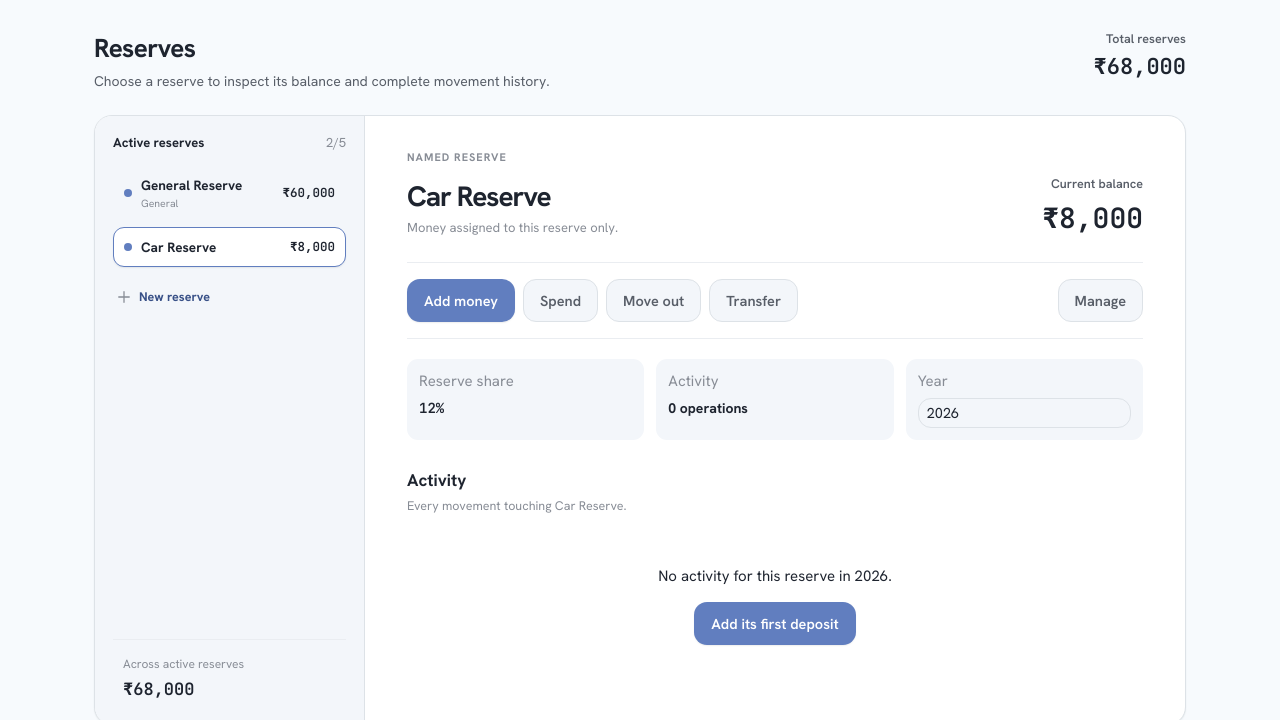
Test case: Reserves page › opens focused operation dialogs prefilled from the selected reserve
Step 1. Click the button "Add money" → (461, 301), box [407,279,515,322]
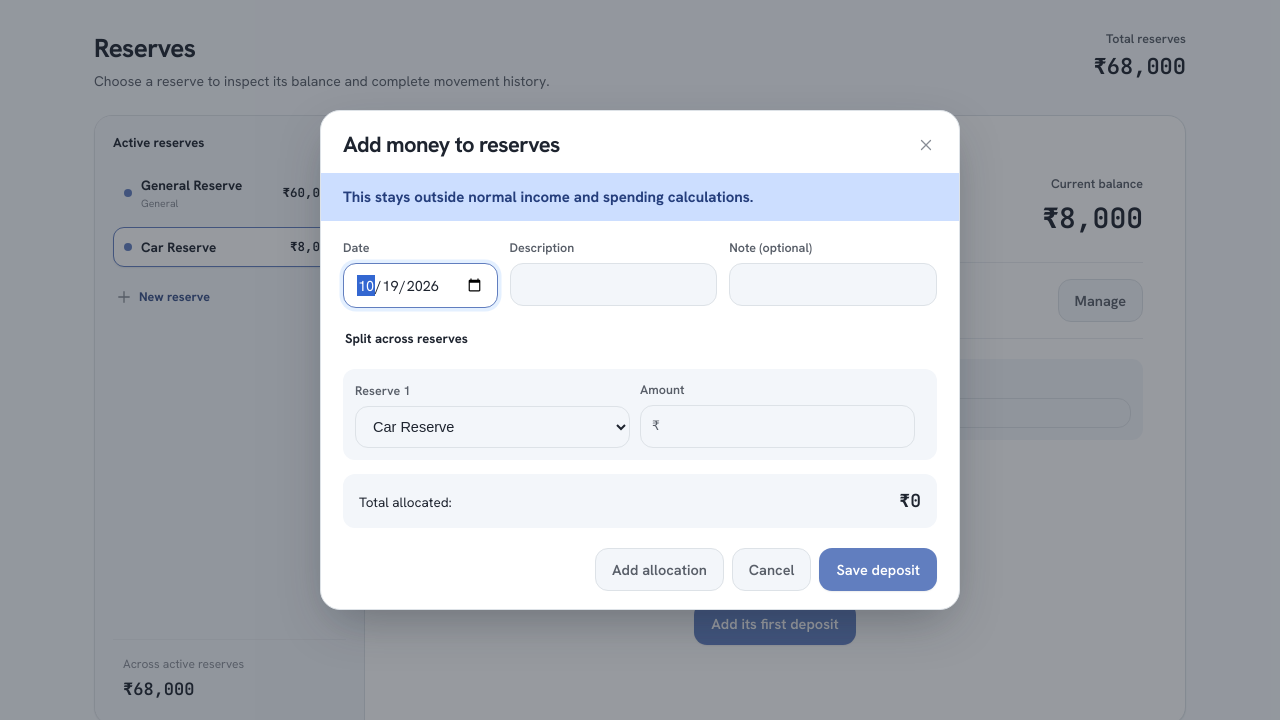
Expected: the dropdown labelled "Reserve 1" shows "Car Reserve", [355,406,630,448]
Step 2. Click the button named "Close dialog" → (924, 145), box [911,132,937,158]
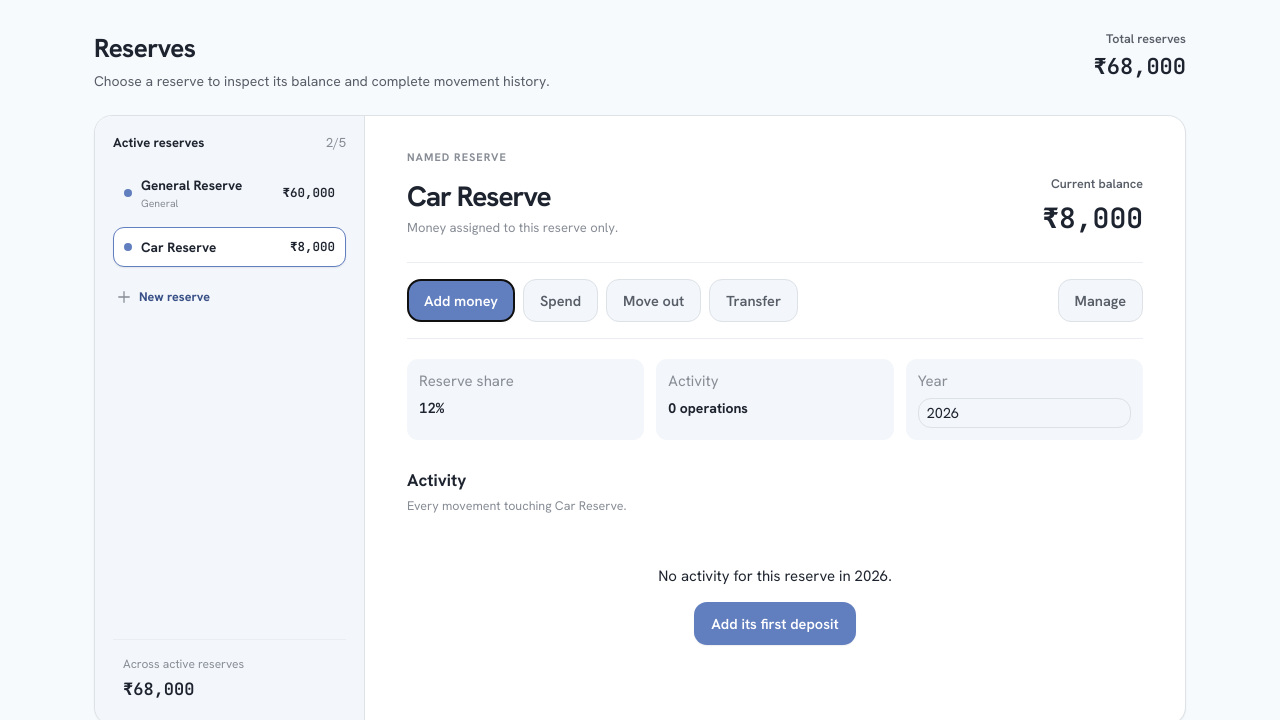
Step 3. Click the button "Move out" → (654, 301), box [606,279,701,322]
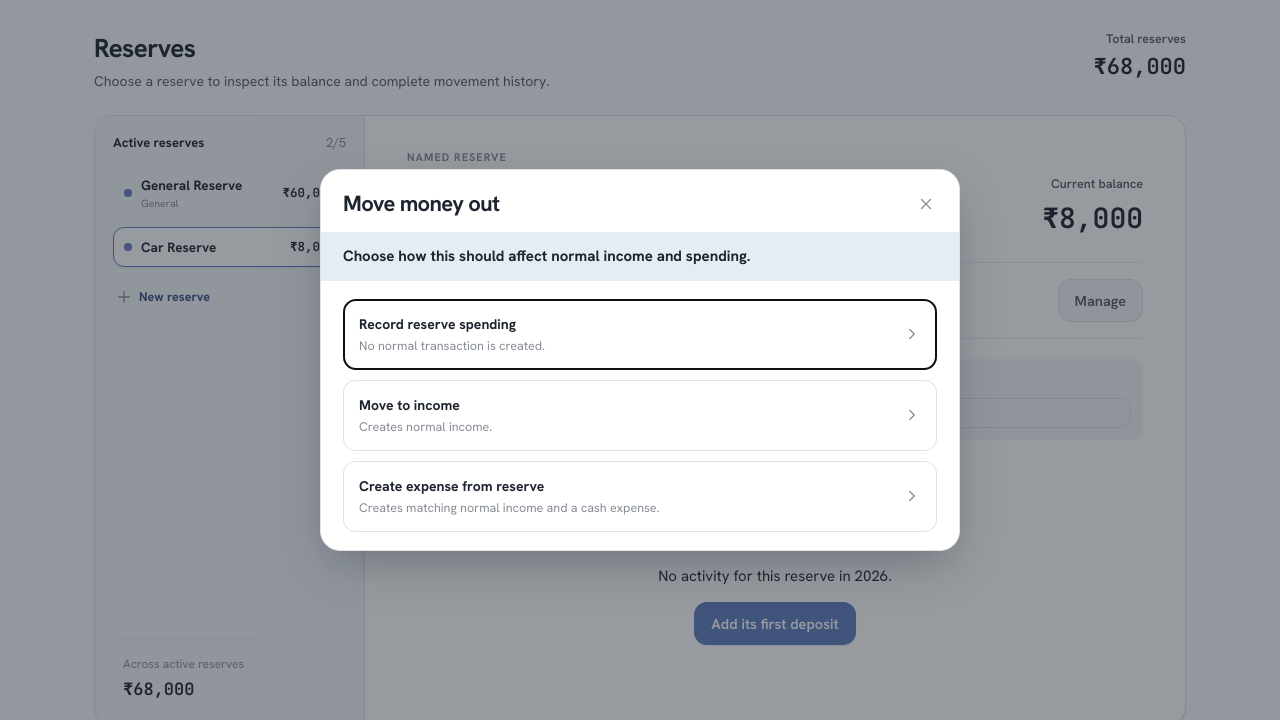
Expected: the dialog "Move money out" is shown, [320,169,960,550]
Step 4. Click the button "Move to income Creates normal income." → (409, 405), box [343,380,937,451]
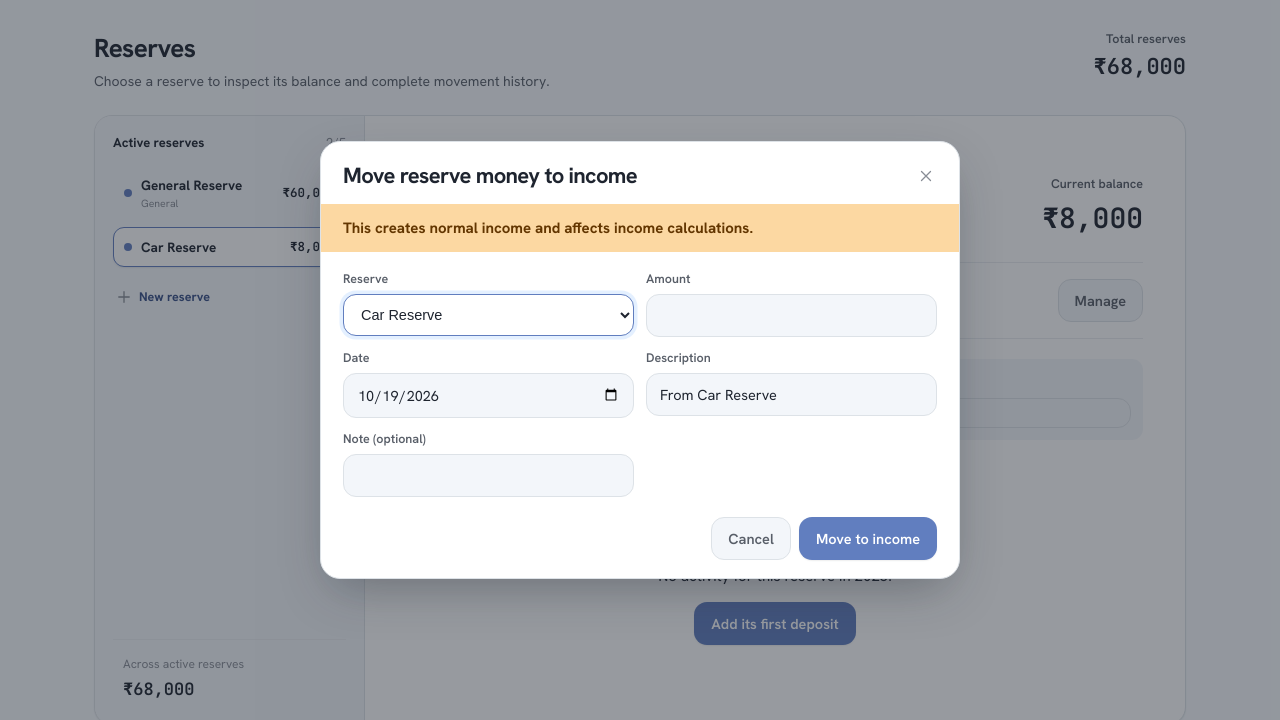
Expected: the dropdown labelled "Reserve" shows "Car Reserve", [343,294,634,336]
Expected: the field labelled "Description" holds "From Car Reserve", [646,373,937,416]
Step 5. Press Escape
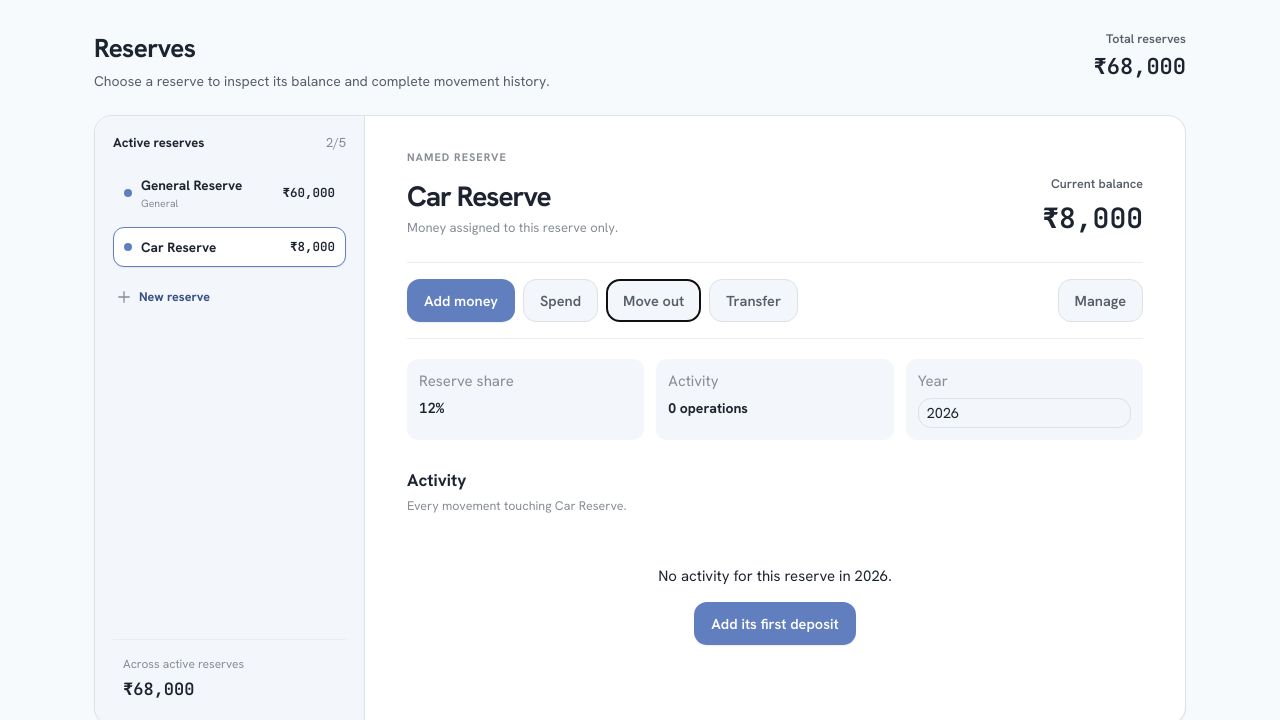
Expected: the dialog is gone
Step 6. Click the button "Transfer" → (754, 301), box [709,279,798,322]
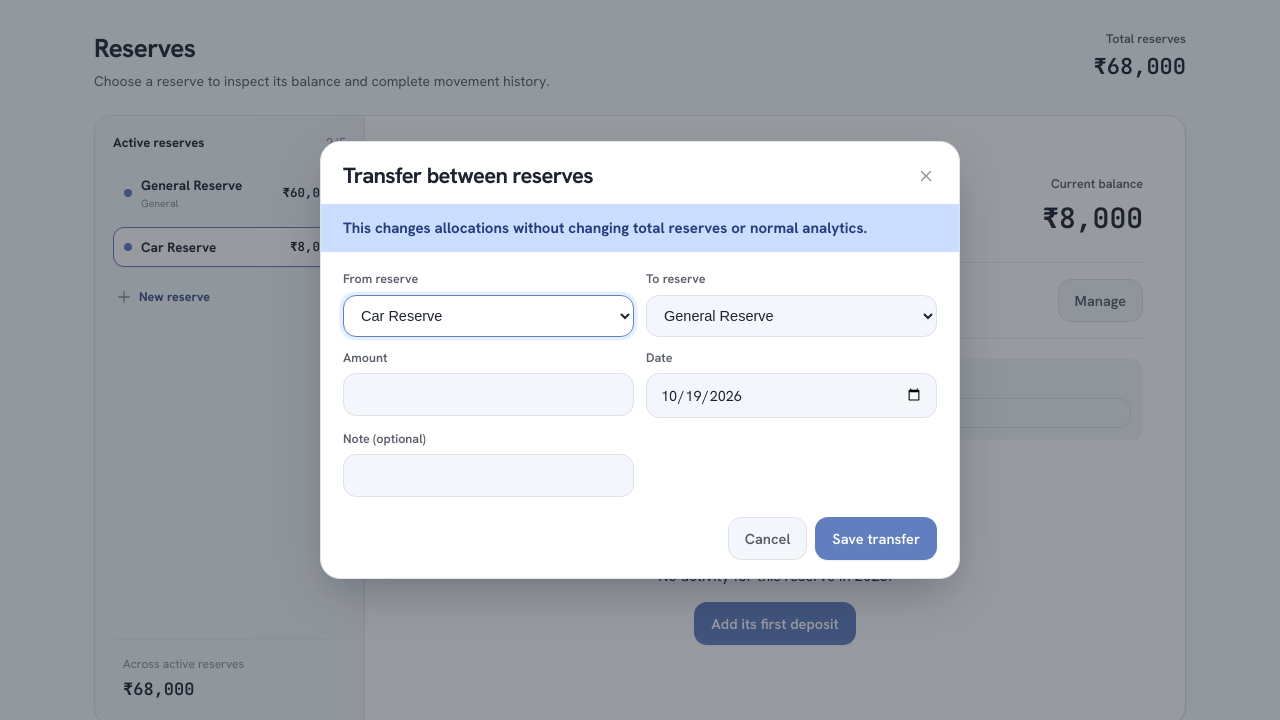
Expected: the dropdown labelled "From reserve" shows "Car Reserve", [343,294,634,336]
Expected: the dropdown labelled "To reserve" shows "General Reserve", [646,294,937,336]
